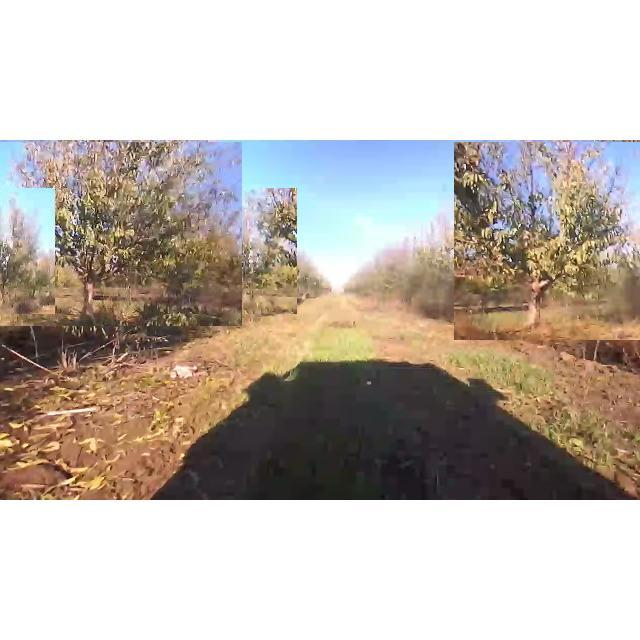direk: (0, 142, 242, 326), (454, 142, 640, 340), (187, 188, 297, 314)
